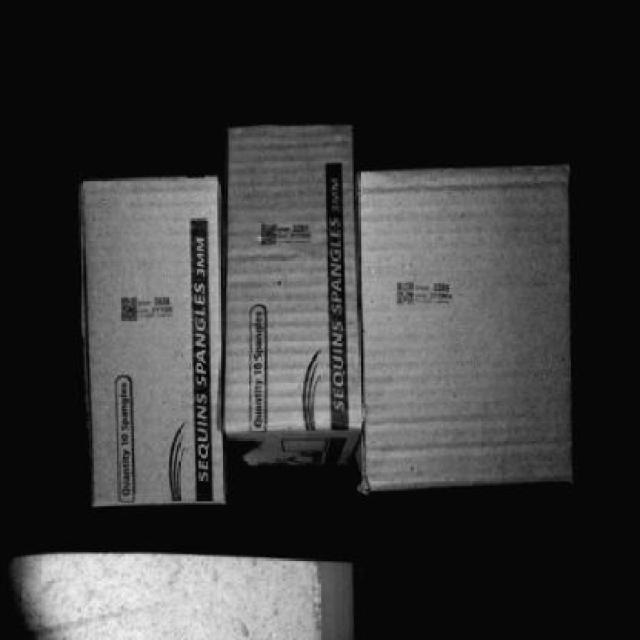cardboxes: (361, 168, 573, 481), (84, 174, 222, 503), (217, 122, 360, 427)
